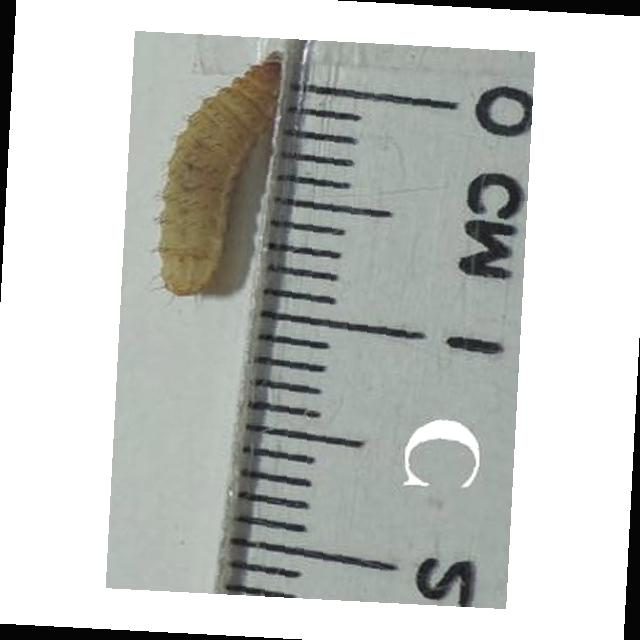Maggot: (150, 48, 287, 288)
